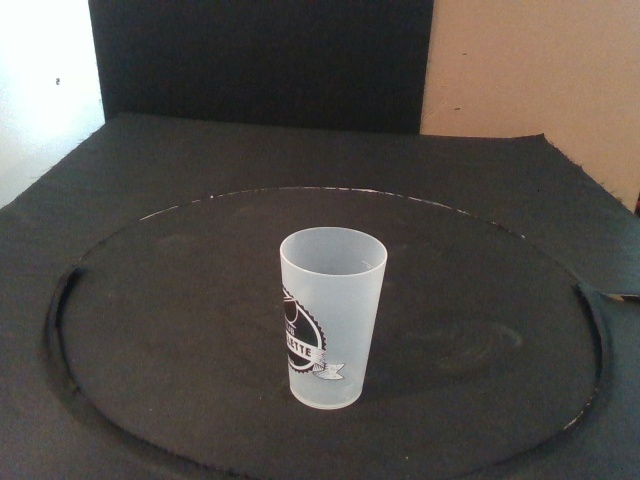glass: (278, 226, 389, 409)
